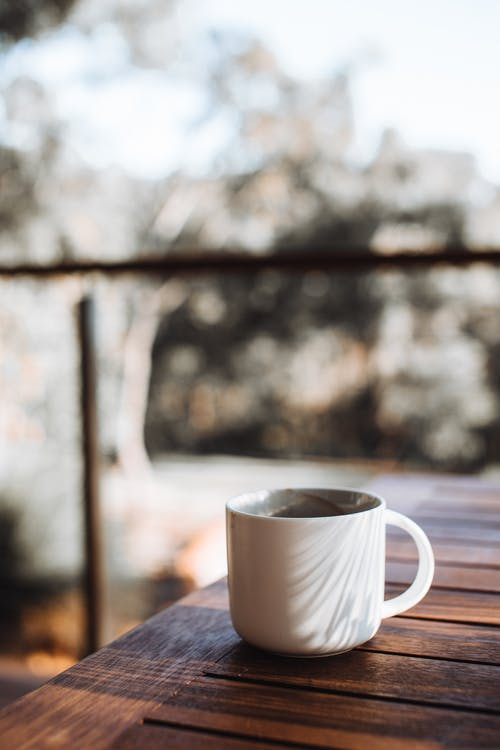cup: (224, 486, 438, 662)
